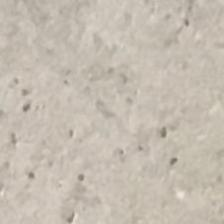Non_Crack: (11, 4, 211, 217)
